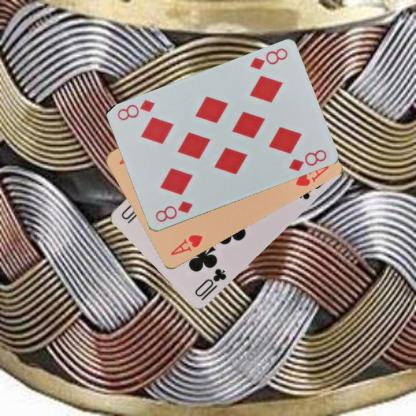10c: (192, 266, 228, 298)
8d: (247, 46, 289, 72), (153, 198, 194, 224)
Ah: (168, 232, 204, 257)
